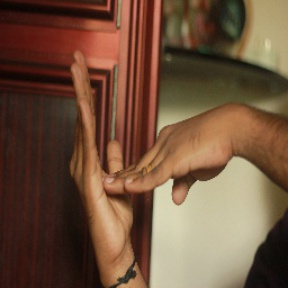Z: (57, 42, 236, 256)
